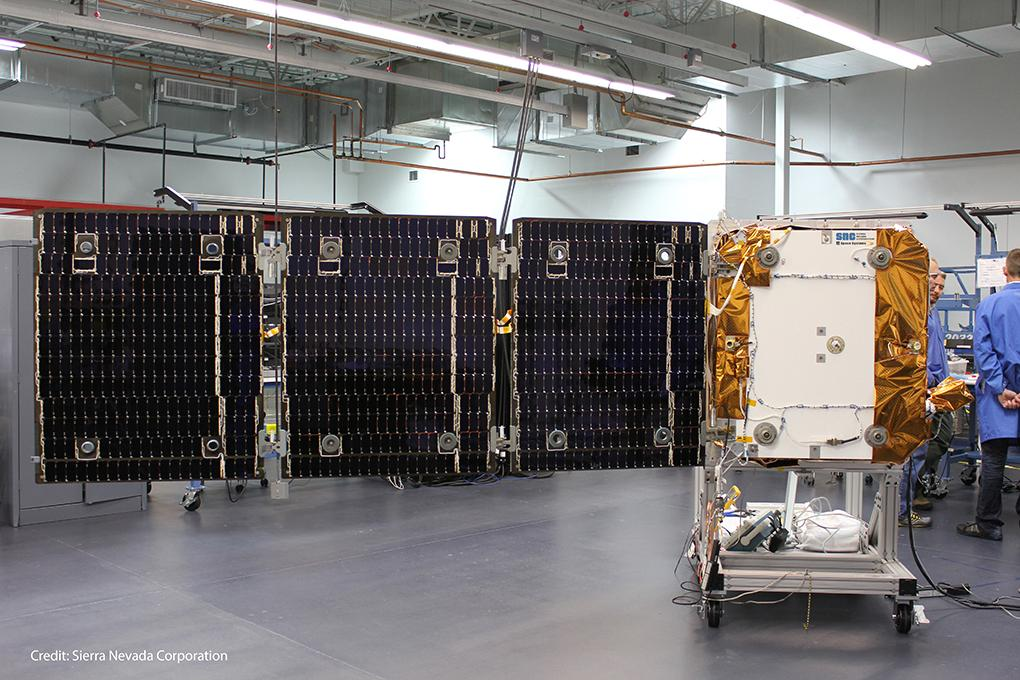solar: (29, 206, 710, 486)
